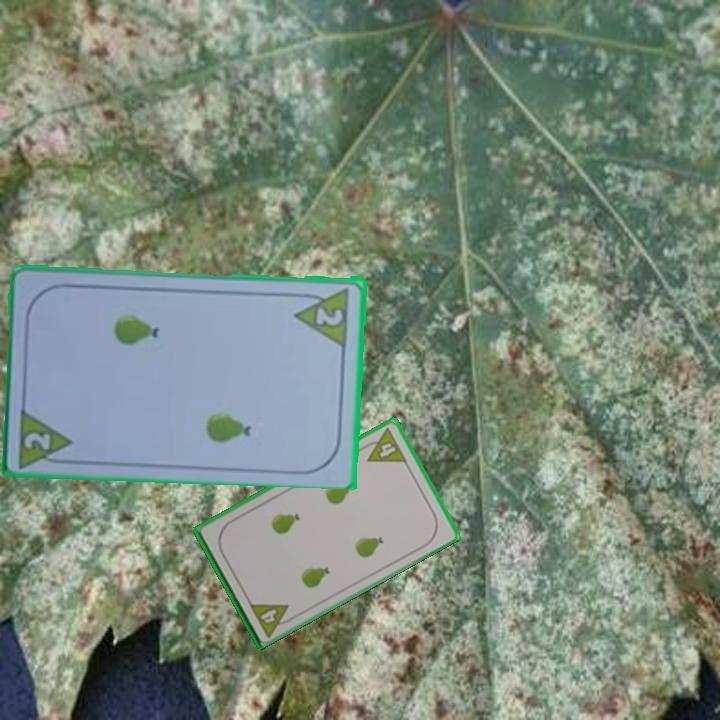2p: (292, 283, 352, 348), (20, 428, 54, 453)
4p: (357, 424, 410, 465), (245, 598, 297, 639)
